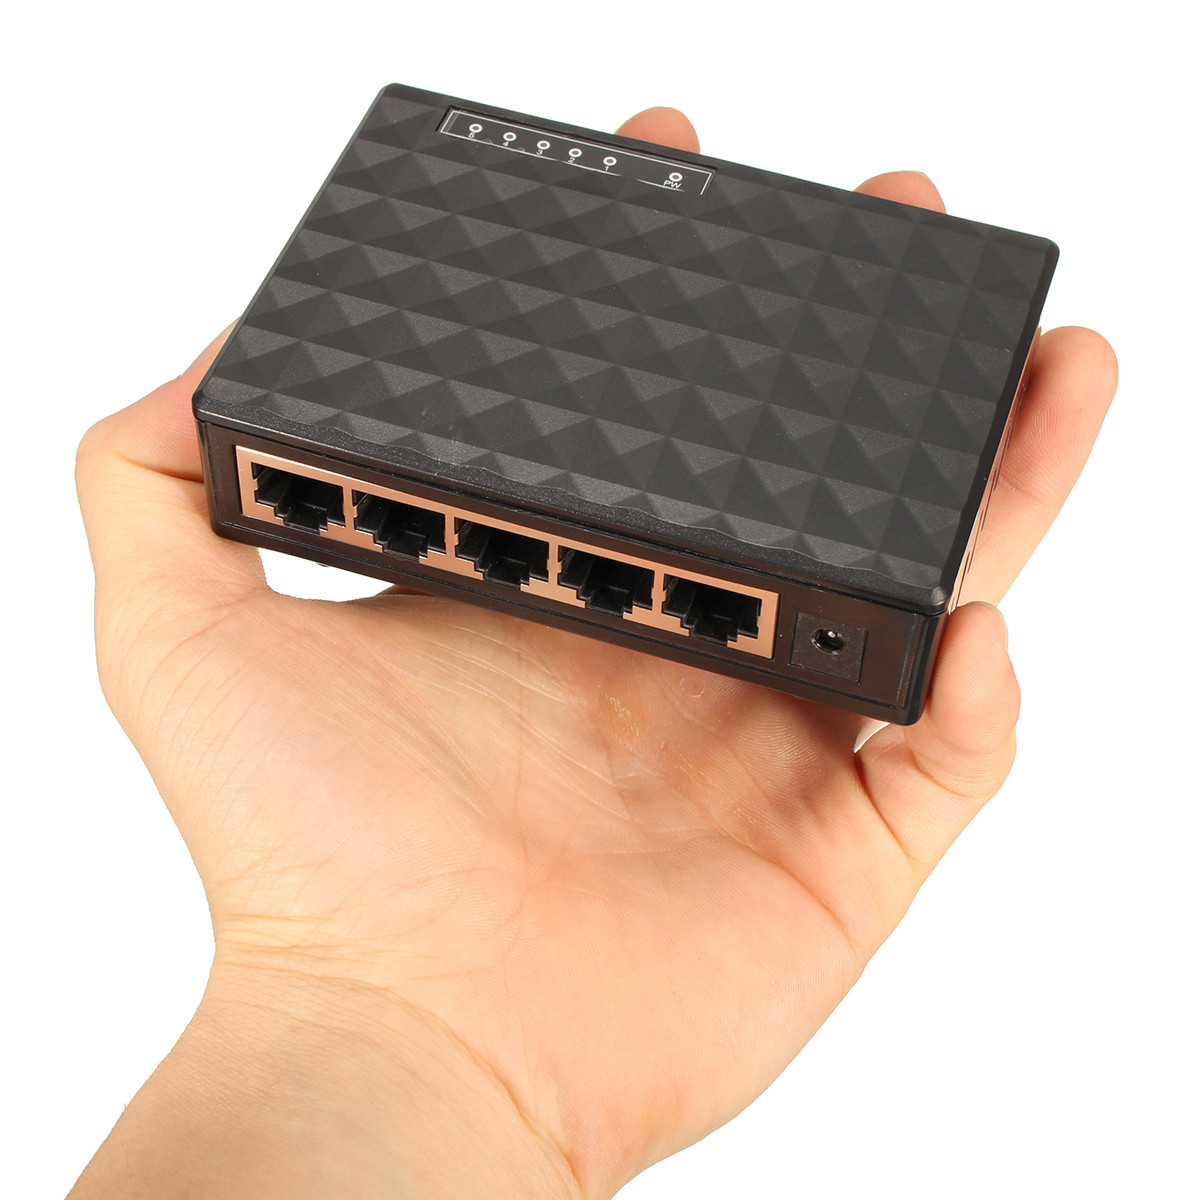lan: (660, 540, 768, 673), (558, 515, 660, 640), (240, 447, 346, 553), (346, 470, 453, 575), (453, 500, 553, 610)
